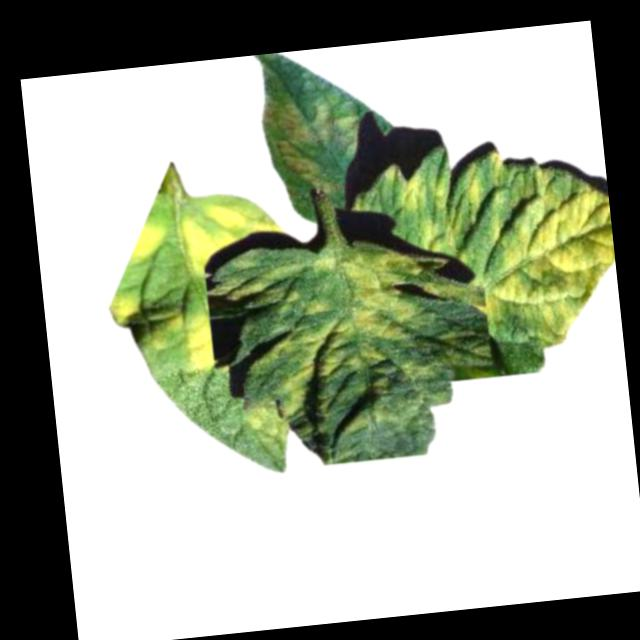Leaf_Mold: (387, 145, 621, 363), (216, 236, 436, 423), (258, 84, 363, 198), (178, 188, 290, 276), (179, 308, 217, 373), (125, 215, 170, 262), (105, 284, 139, 325)
